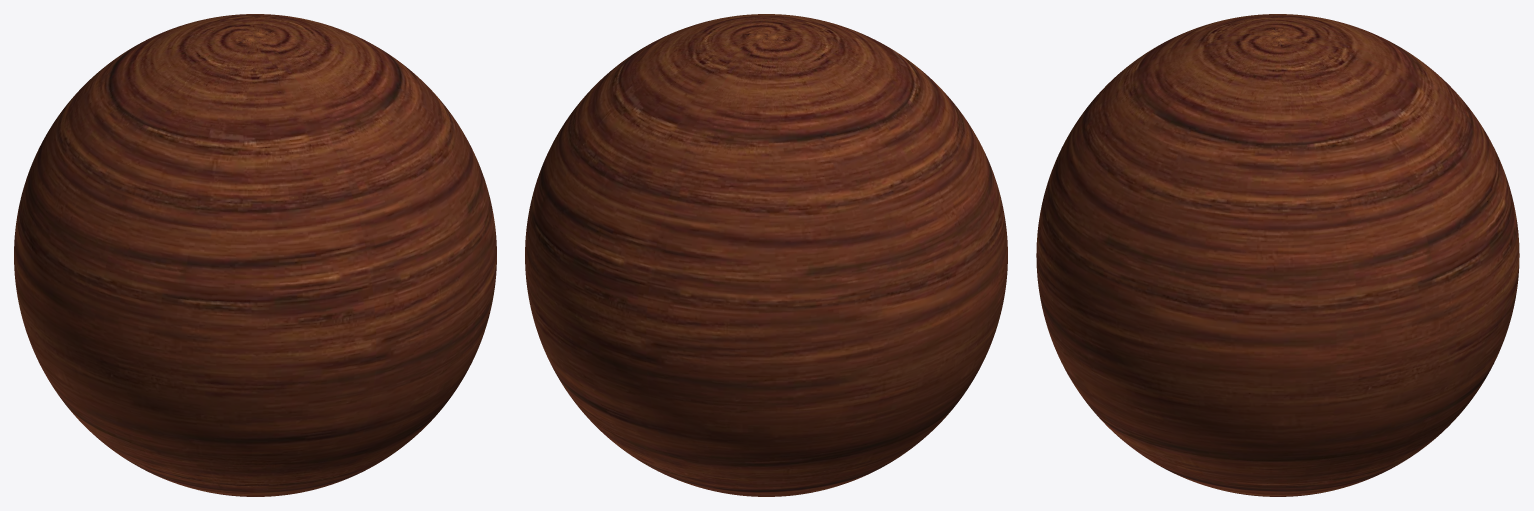
Rendered from dark_wood.glb.
The picture shows the model from 3 angles, left to right: view 1: azimuth 30°, elevation 25°; view 2: azimuth 150°, elevation 25°; view 3: azimuth 270°, elevation 25°; orthographic projection.
Parts seen in each view (by area): view 1: sphere_gltf; view 2: sphere_gltf; view 3: sphere_gltf.
Part boxes in pixels (left/top/right/bottom): sphere_gltf: left=14, top=14, right=496, bottom=496; sphere_gltf: left=525, top=14, right=1007, bottom=496; sphere_gltf: left=1036, top=14, right=1519, bottom=496.
Size of the model in its own units: 2 by 2 by 2.
Materials: 1 (1 with a texture image).
